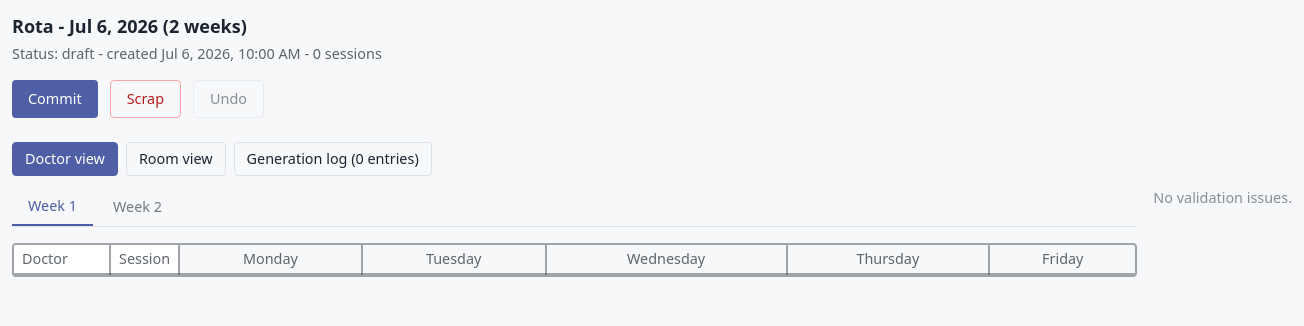
Test: RotaDetailPage › commits after confirmation, seeds the detail cache with the response, and navigates to /
What coordinates should you click on to do the following:
click the button "Commit"
I would click on:
 (55, 99)
Its box is [12,80,98,118].
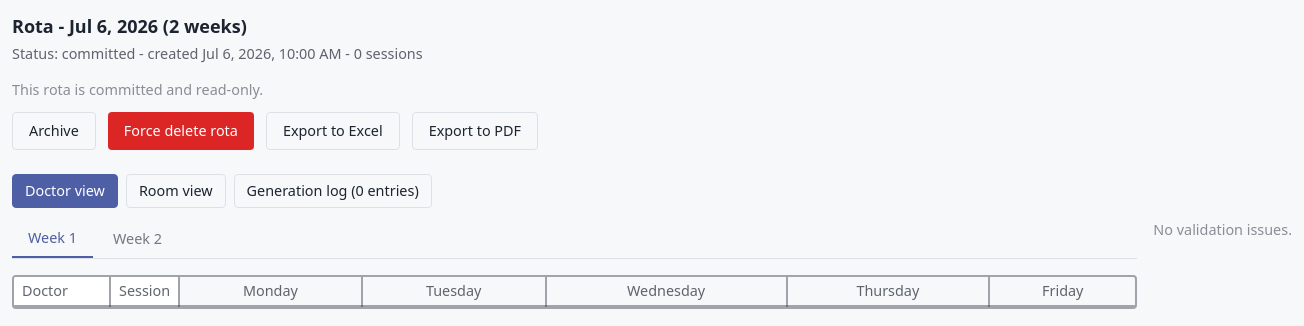
Check: the text "This rota is committed and read-only." is shown, box [12,80,263,99]
